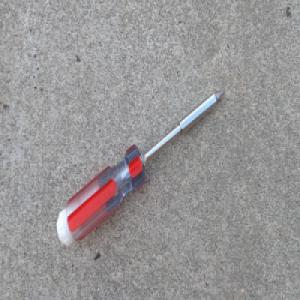Screwdriver: (55, 87, 225, 248)
